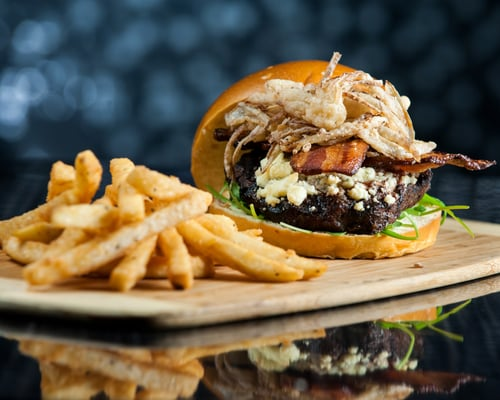soup: (187, 56, 496, 267)
